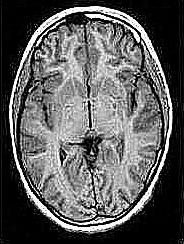Normal_Brain: (1, 1, 184, 244)
